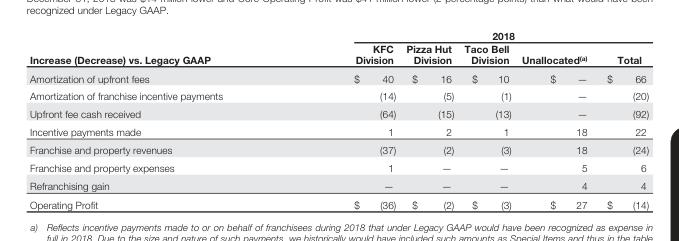table: (28, 28, 648, 209)
table column: (28, 28, 287, 209), (287, 28, 400, 209), (515, 28, 596, 209), (400, 28, 458, 209), (458, 28, 515, 209), (596, 28, 648, 209)
table column header: (28, 28, 648, 68)
table row: (28, 41, 648, 68), (28, 121, 648, 140), (28, 68, 648, 86), (28, 86, 648, 104), (28, 140, 648, 158), (28, 158, 648, 176), (28, 176, 648, 194), (28, 104, 648, 121), (28, 194, 648, 209), (28, 28, 648, 41)
table spanning cell: (28, 28, 287, 68), (287, 28, 648, 41)
